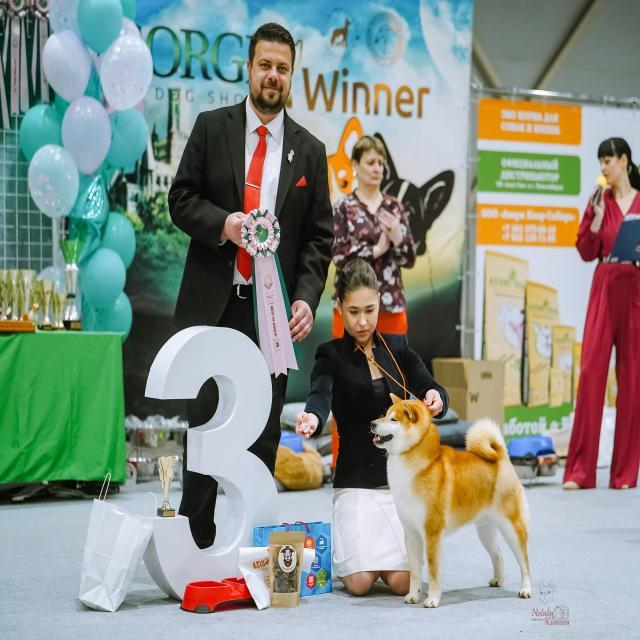Dogs: (368, 388, 541, 622)
